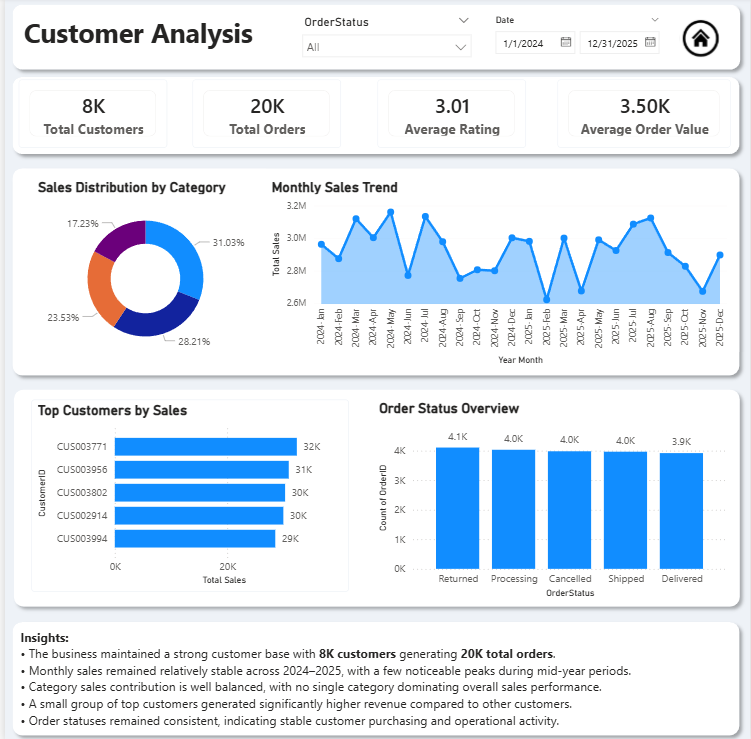

This screenshot's page, from the dashboard's own definition file:
{"tool":"powerbi","page":{"name":"Customer Analysis","canvas":[900,900],"ordinal":1},"visuals":[{"type":"shape","box":[0,0,896,96.5],"z":0},{"type":"textbox","box":[16,16,288,64],"z":1000},{"type":"shape","box":[0,87,895,111],"z":2000},{"type":"cardVisual","fields":{"Data":["ecommerce_sales.Total Customers"]},"box":[16.6,100,179.5,82],"z":3000},{"type":"cardVisual","fields":{"Data":["ecommerce_sales.Total Orders"]},"box":[226.2,100,179.5,82],"z":4000},{"type":"cardVisual","fields":{"Data":["ecommerce_sales.Average Rating"]},"box":[449.4,99,179.5,82],"z":5000},{"type":"cardVisual","fields":{"Data":["ecommerce_sales.Average Order Value"]},"box":[666,100,209,82],"z":6000},{"type":"shape","box":[0,197,895,268],"z":7000},{"type":"donutChart","title":"Sales Distribution by Category","fields":{"Category":["ecommerce_sales.Category"],"Y":["ecommerce_sales.Total Sales"]},"box":[34.7,218.7,269.9,223.2],"z":8000},{"type":"areaChart","title":"Monthly Sales Trend","fields":{"Category":["Calendar.Year Month"],"Y":["ecommerce_sales.Total Sales"]},"box":[316.7,218.7,559.5,230.7],"z":9000},{"type":"shape","box":[1,465,894,280],"z":10000},{"type":"clusteredBarChart","title":"Top Customers by Sales","fields":{"Category":["ecommerce_sales.CustomerID"],"Y":["ecommerce_sales.Total Sales"]},"box":[31.7,485.6,383,232.2],"z":11000},{"type":"clusteredColumnChart","title":"Order Status Overview","fields":{"Category":["ecommerce_sales.OrderStatus"],"Y":["ecommerce_sales.Count of OrderID"]},"box":[446.4,485.6,429.8,244.3],"z":12000},{"type":"shape","box":[0,745,895,155],"z":13000},{"type":"textbox","box":[14,757,865,130],"z":14000},{"type":"actionButton","box":[806,16,72,66],"z":15000},{"type":"slicer","fields":{"Values":["Calendar.Date"]},"box":[579,16,223,63],"z":16000},{"type":"slicer","fields":{"Values":["ecommerce_sales.OrderStatus"]},"box":[348,16,224,63],"z":17000}]}

Visuals, with their boxes in screenshot pixels (x1, y1, x2, y2), scaled from the page's 900x900 canvas onto the 751x739 screenshot:
shape: x1=0 y1=0 x2=748 y2=79
textbox: x1=13 y1=13 x2=254 y2=66
shape: x1=0 y1=71 x2=747 y2=163
cardVisual - ecommerce_sales.Total Customers: x1=14 y1=82 x2=164 y2=149
cardVisual - ecommerce_sales.Total Orders: x1=189 y1=82 x2=339 y2=149
cardVisual - ecommerce_sales.Average Rating: x1=375 y1=81 x2=525 y2=149
cardVisual - ecommerce_sales.Average Order Value: x1=556 y1=82 x2=730 y2=149
shape: x1=0 y1=162 x2=747 y2=382
"Sales Distribution by Category" donutChart: x1=29 y1=180 x2=254 y2=363
"Monthly Sales Trend" areaChart: x1=264 y1=180 x2=731 y2=369
shape: x1=1 y1=382 x2=747 y2=612
"Top Customers by Sales" clusteredBarChart: x1=26 y1=399 x2=346 y2=589
"Order Status Overview" clusteredColumnChart: x1=372 y1=399 x2=731 y2=599
shape: x1=0 y1=612 x2=747 y2=738
textbox: x1=12 y1=622 x2=733 y2=728
actionButton: x1=673 y1=13 x2=733 y2=67
slicer - Calendar.Date: x1=483 y1=13 x2=669 y2=65
slicer - ecommerce_sales.OrderStatus: x1=290 y1=13 x2=477 y2=65
